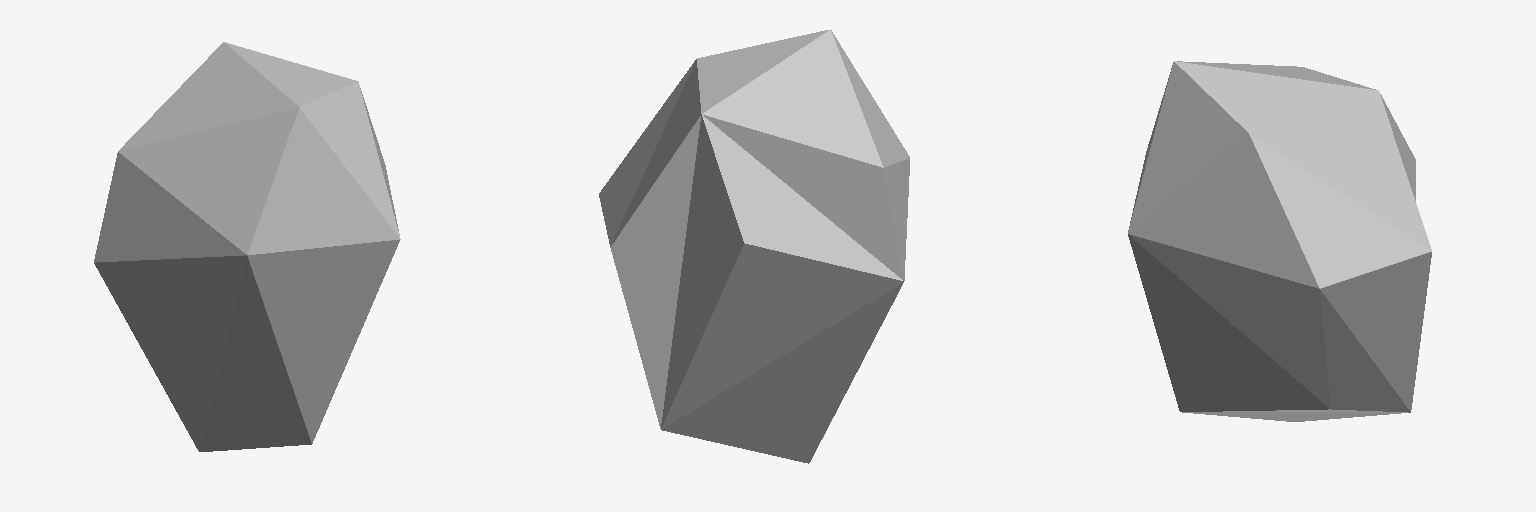
Rendered from relationships.obj.
3 views of the same model, side by side, from view 1: azimuth 30°, elevation 25°; view 2: azimuth 150°, elevation 25°; view 3: azimuth 270°, elevation 25° (orthographic).
Visible parts, largest first — view 1: 000_Buffer_Layer; view 2: 000_Buffer_Layer; view 3: 000_Buffer_Layer.
Boxes of the visible parts, x1,y1,x2,y2 form: 000_Buffer_Layer: [94, 42, 400, 451]; 000_Buffer_Layer: [599, 29, 909, 463]; 000_Buffer_Layer: [1128, 61, 1431, 421].
Bounding box in the file's own units: 75.89 × 92.33 × 67.02.